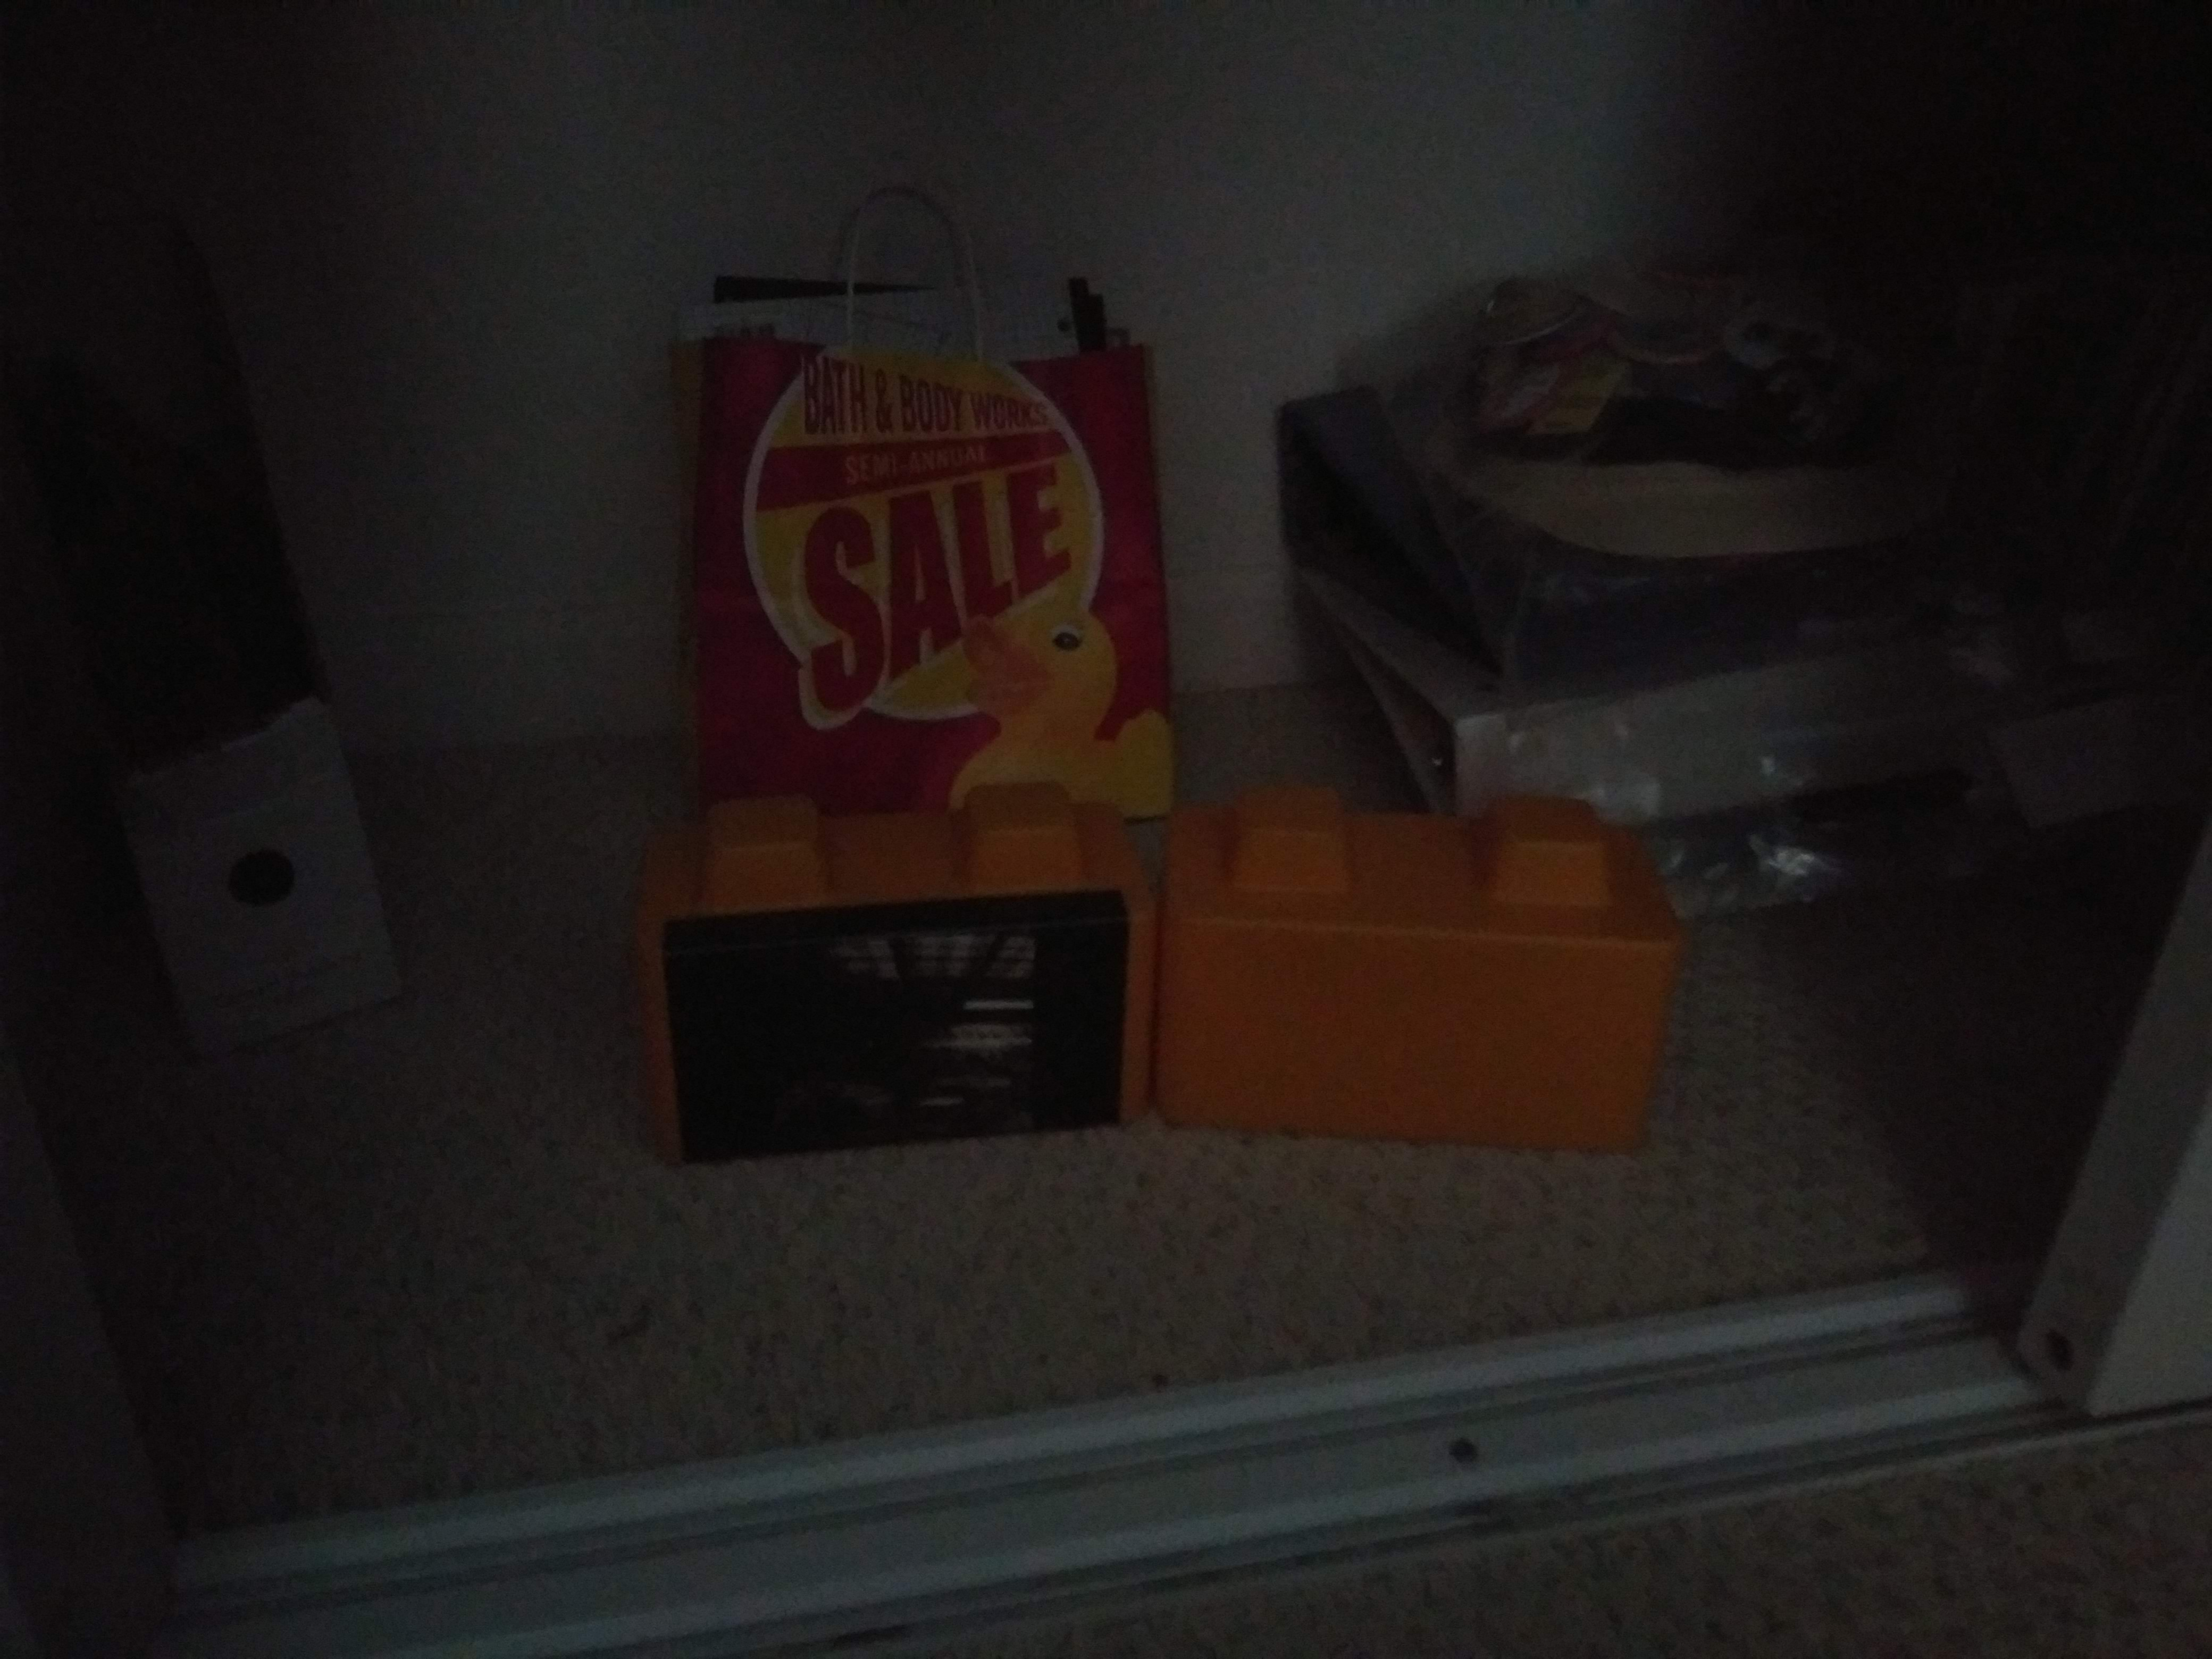skystone: (655, 863, 1132, 1141)
stone: (1177, 843, 1658, 1155)
